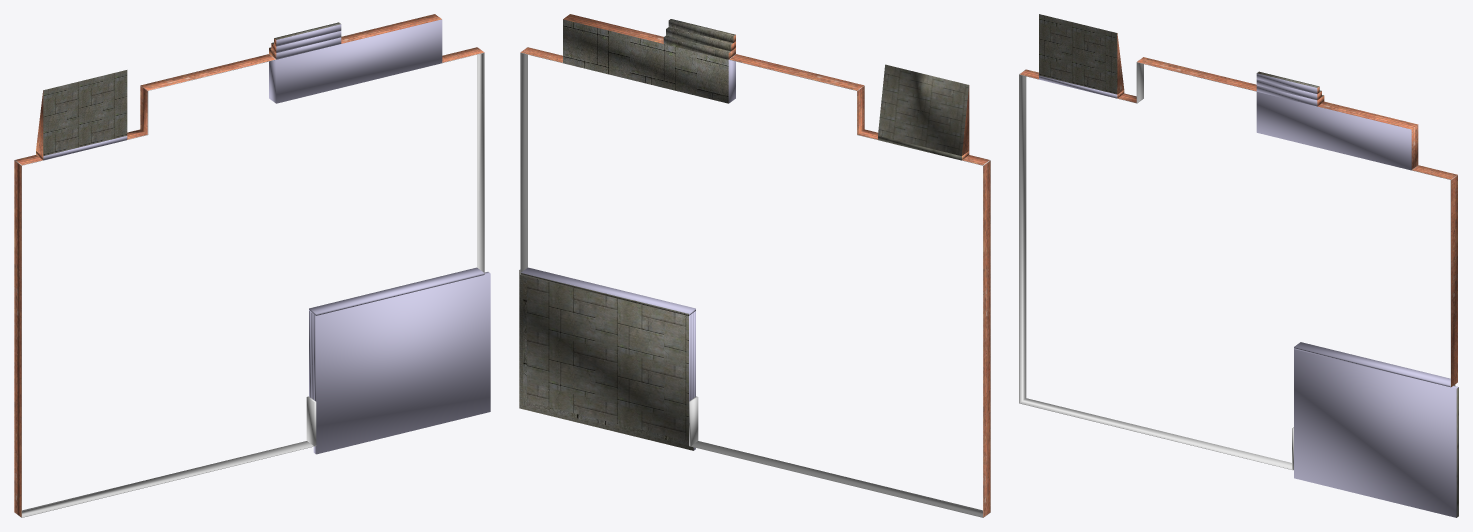
The model's file is basement_tex_v2.fbx.
3 views of the same model, side by side, from view 1: azimuth 30°, elevation 25°; view 2: azimuth 150°, elevation 25°; view 3: azimuth 330°, elevation 25° (orthographic). The views are drawn at different scales.
Visible parts, largest first — view 1: Cube.001; view 2: Cube.001; view 3: Cube.001.
Part boxes in pixels (<box>): Cube.001: <box>14,14,490,517</box>; Cube.001: <box>519,14,990,517</box>; Cube.001: <box>1019,14,1458,517</box>.
Size of the model in its own units: 0.1116 by 0.098 by 0.003.
